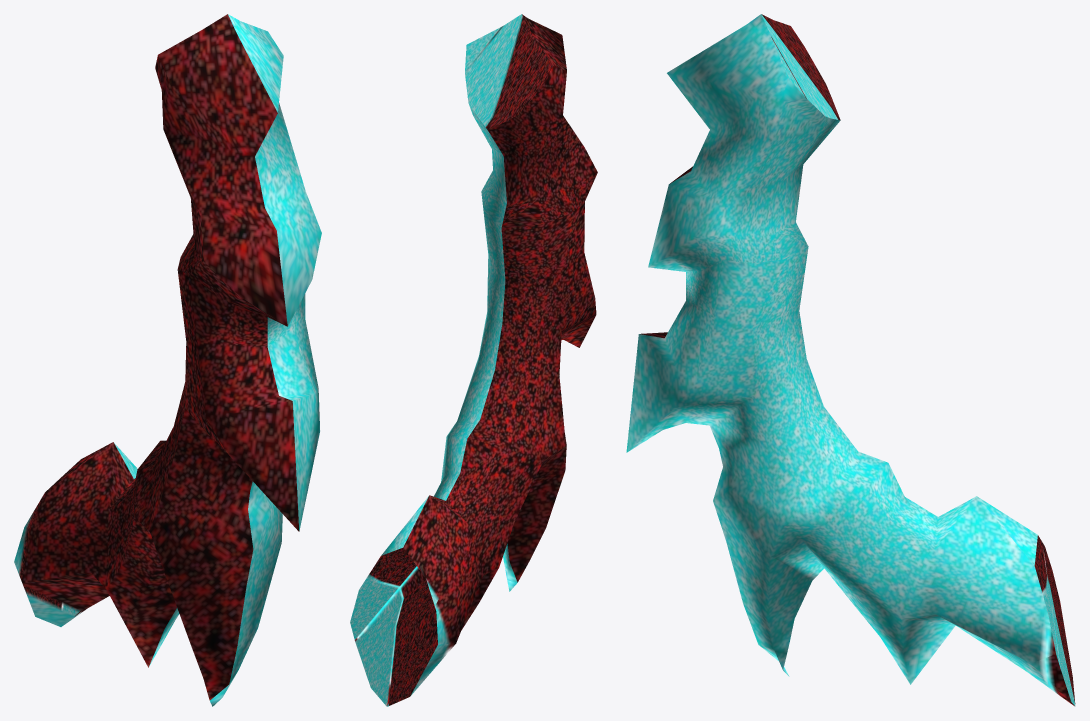
3 views of the same model, side by side, from view 1: azimuth 30°, elevation 25°; view 2: azimuth 150°, elevation 25°; view 3: azimuth 270°, elevation 25° (orthographic). The views are drawn at different scales.
Parts seen in each view (by area): view 1: SM_VFX_Chakrams_Kothaar_1H_01_Part3_LOD0; view 2: SM_VFX_Chakrams_Kothaar_1H_01_Part3_LOD0; view 3: SM_VFX_Chakrams_Kothaar_1H_01_Part3_LOD0.
Boxes of the visible parts, bbox=[...] form: SM_VFX_Chakrams_Kothaar_1H_01_Part3_LOD0: bbox=[14, 14, 321, 706]; SM_VFX_Chakrams_Kothaar_1H_01_Part3_LOD0: bbox=[350, 14, 597, 706]; SM_VFX_Chakrams_Kothaar_1H_01_Part3_LOD0: bbox=[626, 14, 1075, 706].
Bounding box in the file's own units: 0.0586 × 0.3084 × 0.1811.
Materials: 1 (1 with a texture image).
